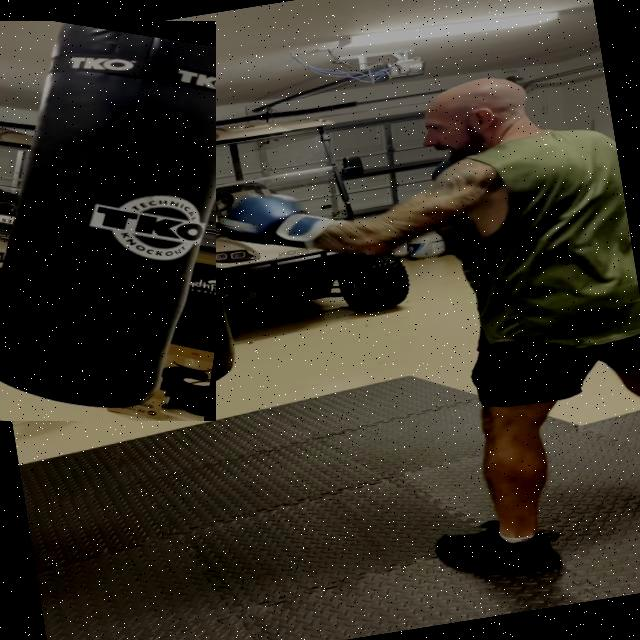punch: (158, 31, 634, 316)
